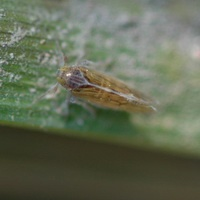insect: (57, 66, 155, 112)
